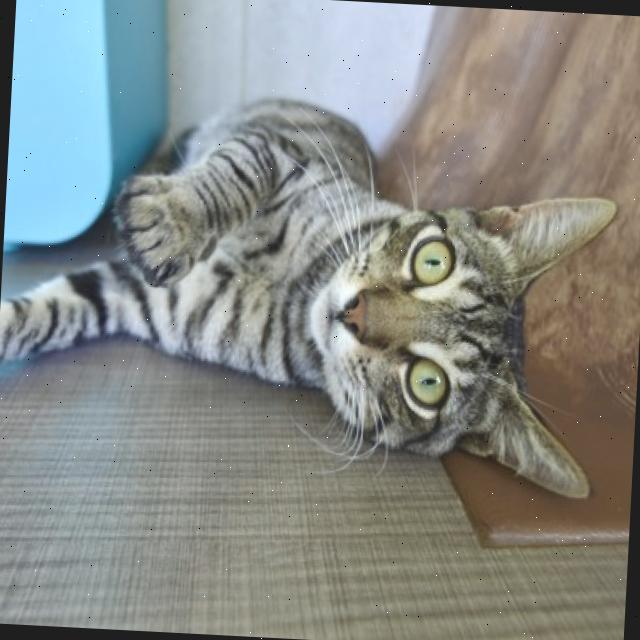domestic_short_hair_cat: (276, 146, 626, 522)
